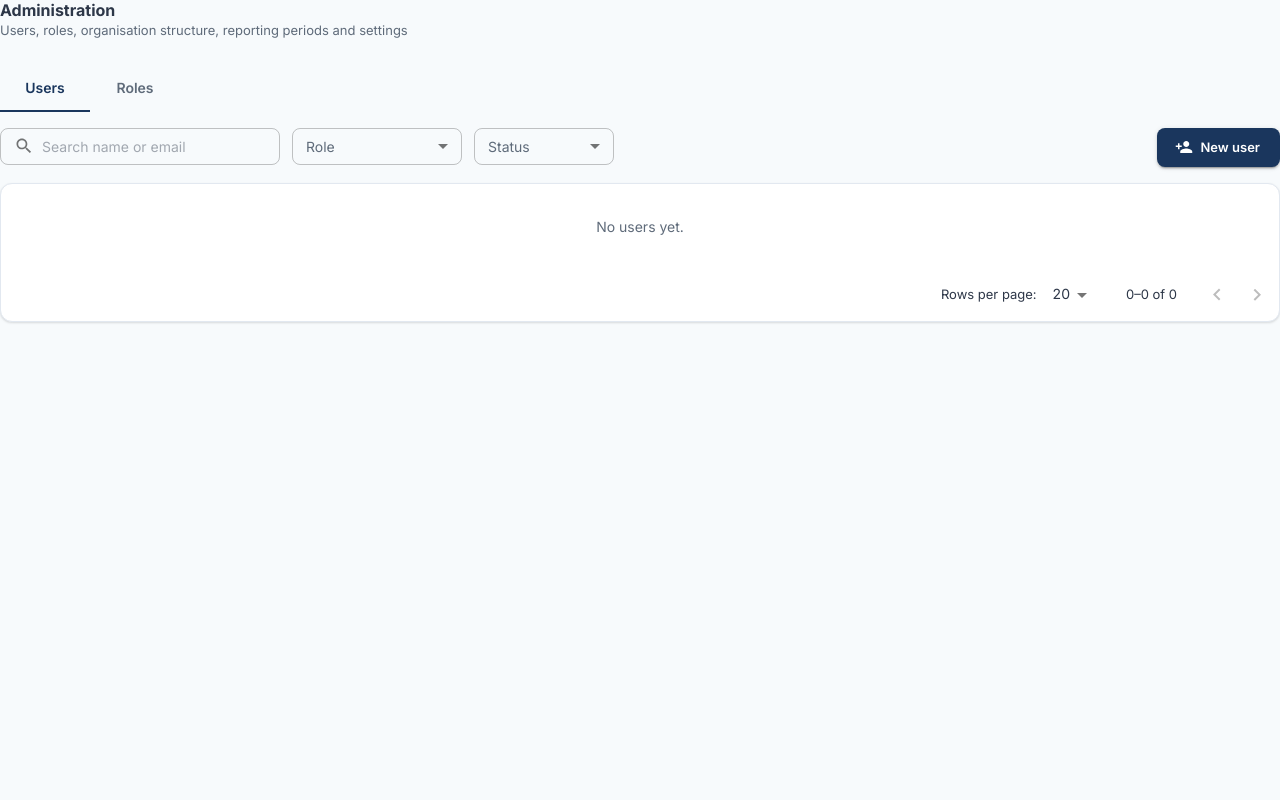
AdminPage › shows server field errors next to the field
Click the button "New user" at x=1218, y=147, box [1156, 128, 1279, 167]
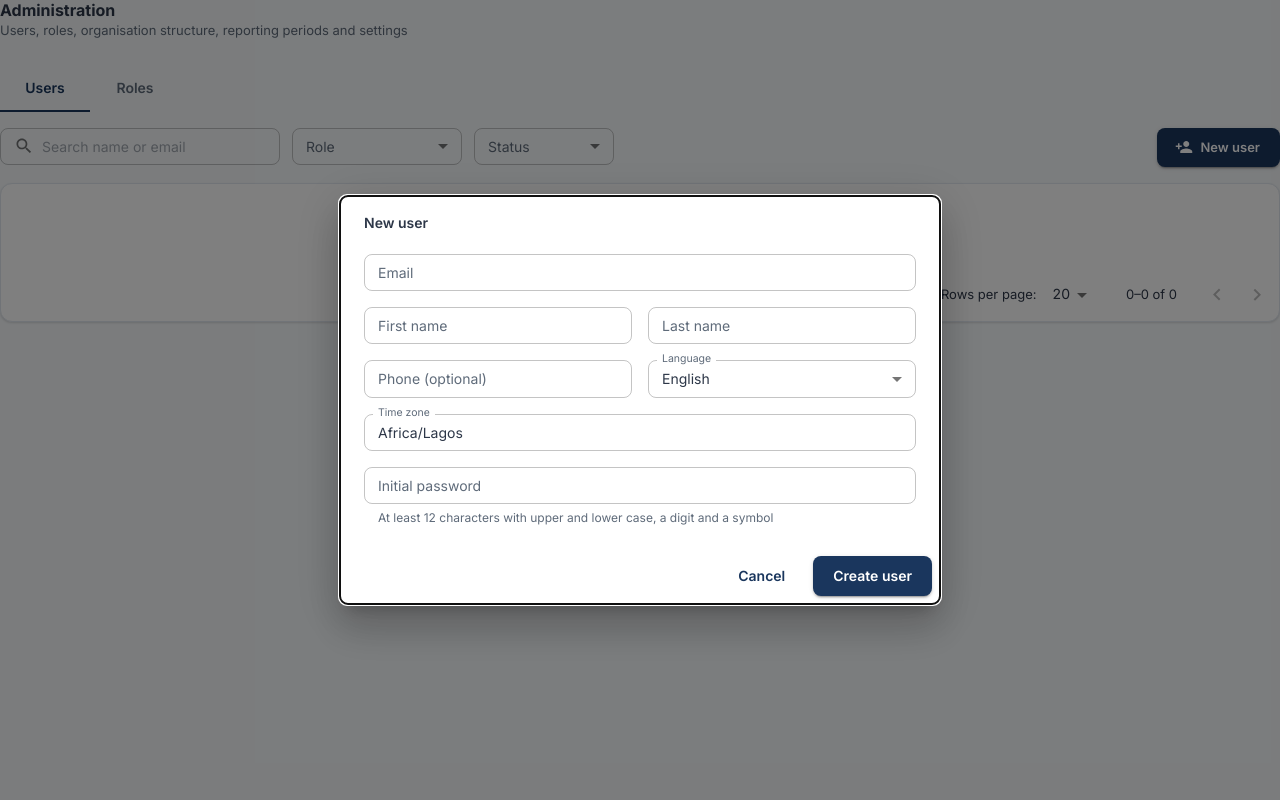
Type "taken@fixture.test" into the field labelled "Email" at x=640, y=273, box [364, 254, 916, 291]
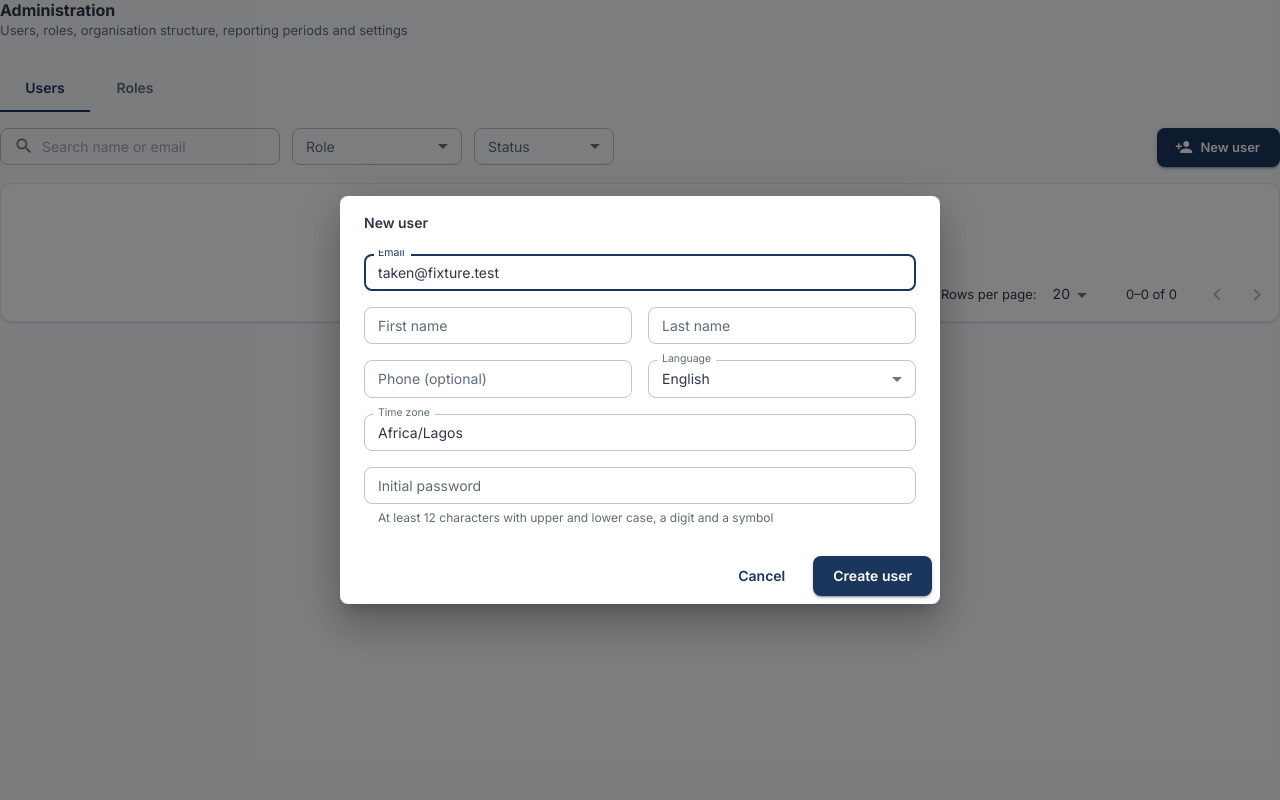
Type "A" into the field labelled "First name" at x=498, y=326, box [364, 307, 632, 344]
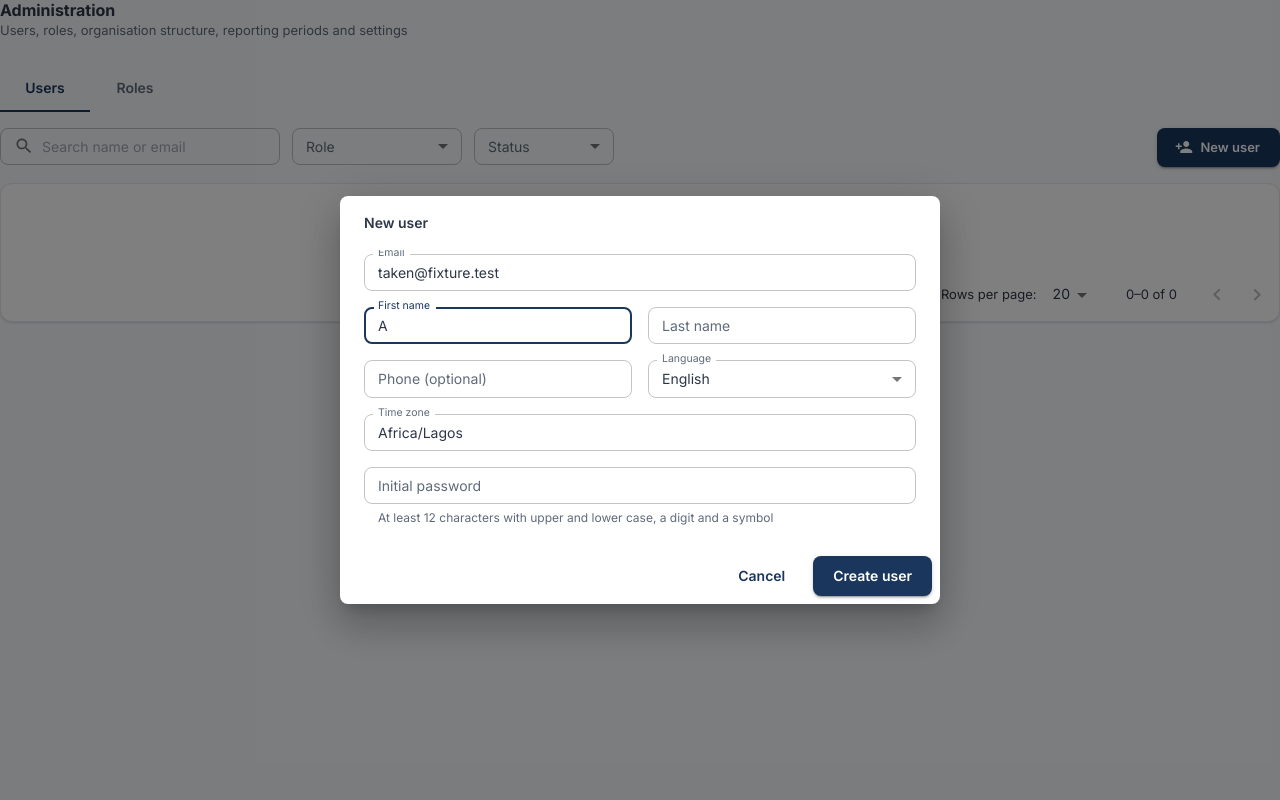
Type "B" into the field labelled "Last name" at x=782, y=326, box [648, 307, 916, 344]
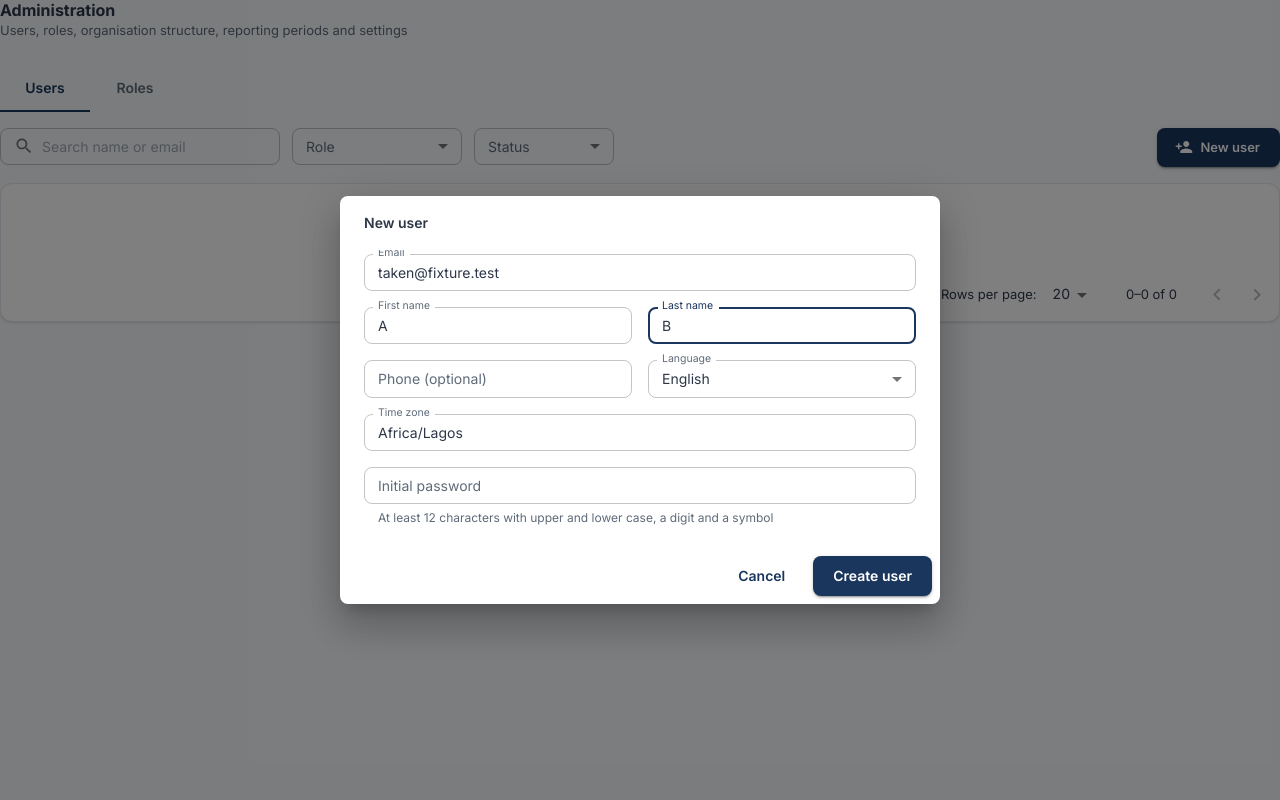
Type "Str0ng!Passw0rd" into the password field labelled "Initial password" at x=640, y=485, box [364, 467, 916, 504]
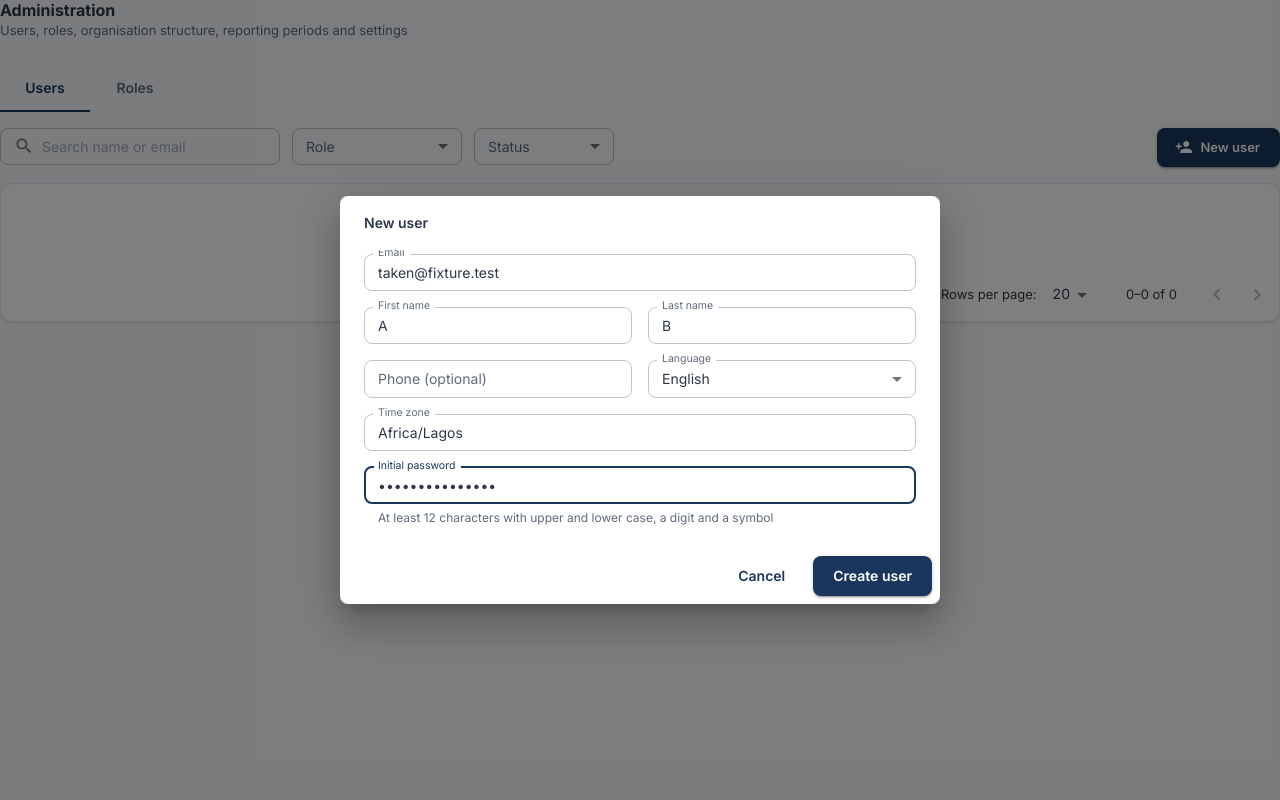
Click the button "Create user" at x=873, y=576, box [813, 556, 932, 596]
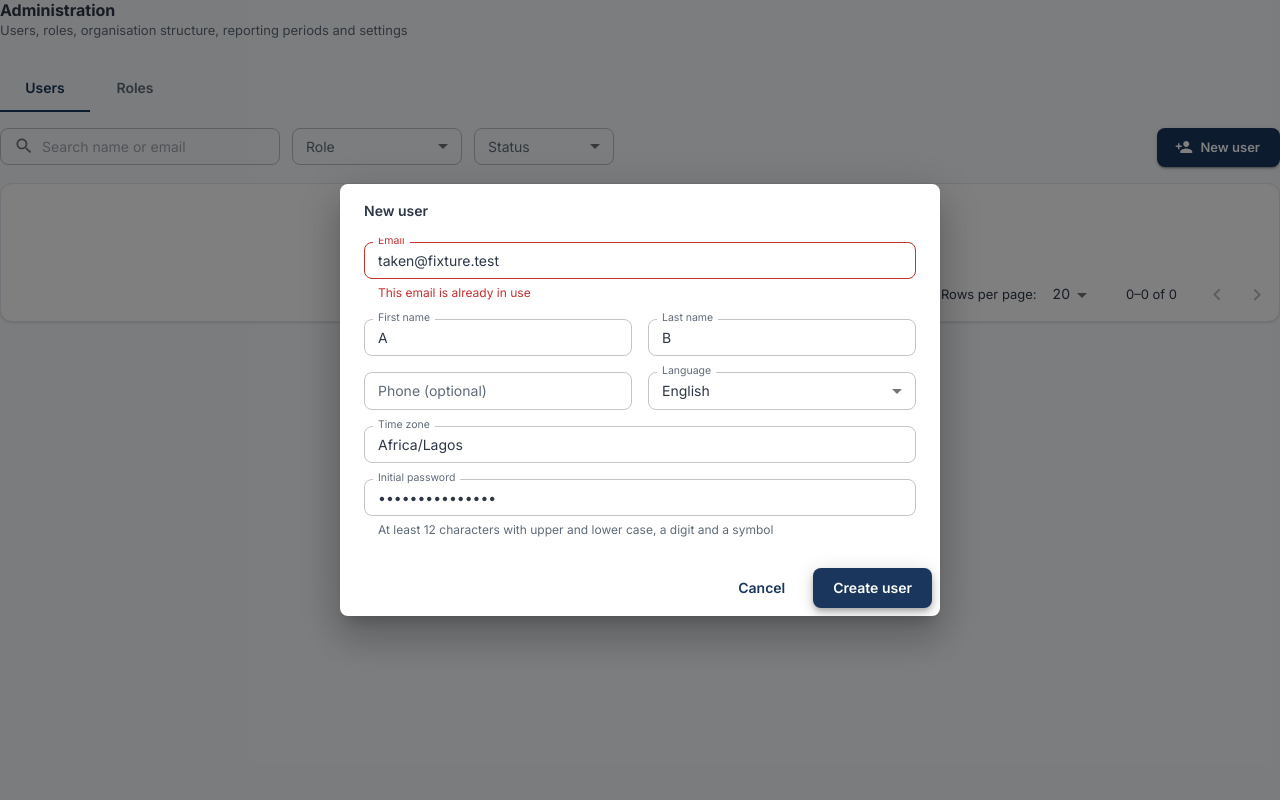
Expected: the text "This email is already in use" is shown, [378, 285, 531, 300]
